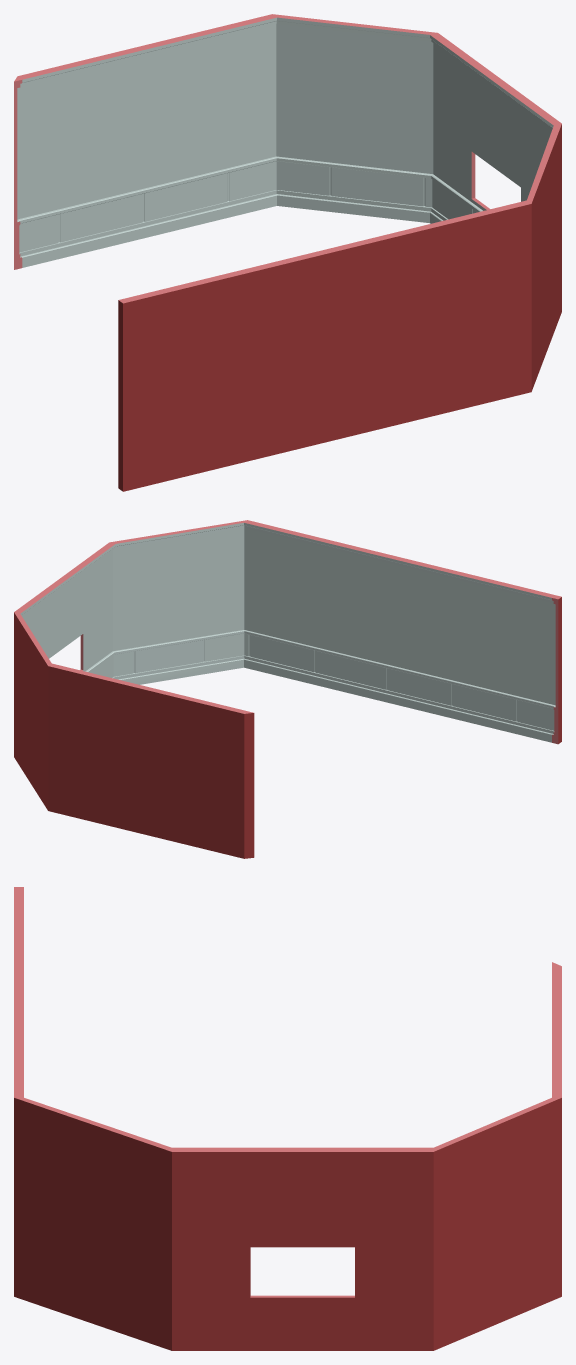
Rendered from Study_Wall.fbx.
3 renders of one model, top to bottom at view 1: azimuth 30°, elevation 25°; view 2: azimuth 150°, elevation 25°; view 3: azimuth 270°, elevation 25°, orthographic. The views are drawn at different scales.
Parts seen in each view (by area): view 1: polySurface300; view 2: polySurface300; view 3: polySurface300.
Boxes of the visible parts, <box> form: polySurface300: <box>14,14,561,491</box>; polySurface300: <box>14,520,561,858</box>; polySurface300: <box>14,887,561,1350</box>.
Size of the model in its own units: 148 by 52 by 130.
